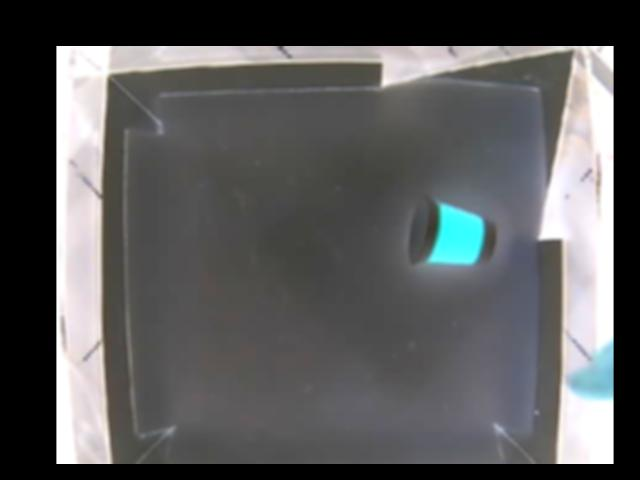Cup: (408, 197, 495, 268)
